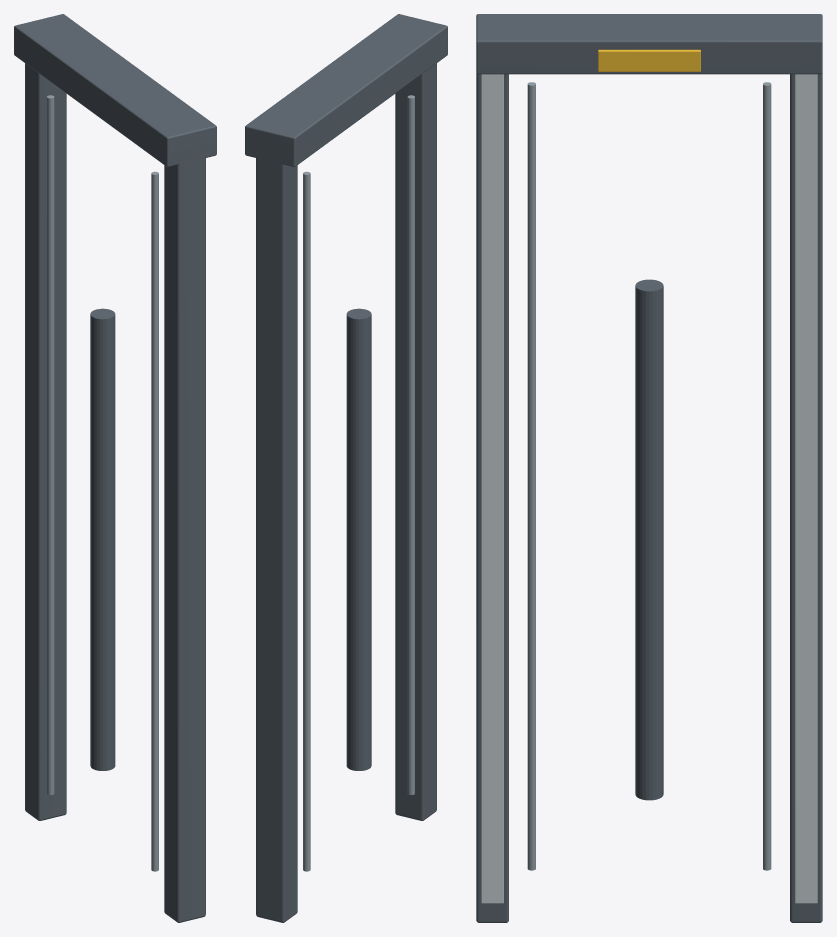
The model's file is SM_FixedMast.fbx.
The picture shows the model from 3 angles, left to right: view 1: azimuth 30°, elevation 25°; view 2: azimuth 150°, elevation 25°; view 3: azimuth 270°, elevation 25°; orthographic projection. The views are drawn at different scales.
Visible parts, largest first — view 1: SM_FixedMast; view 2: SM_FixedMast; view 3: SM_FixedMast.
Part boxes in pixels (left/top/right/bottom): SM_FixedMast: left=14, top=14, right=216, bottom=922; SM_FixedMast: left=245, top=14, right=447, bottom=922; SM_FixedMast: left=476, top=14, right=822, bottom=922.
Size of the model in its own units: 74 by 14.8 by 210.
